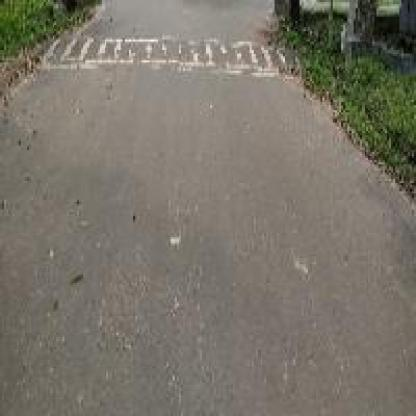Speed Bump: (44, 38, 266, 66)
